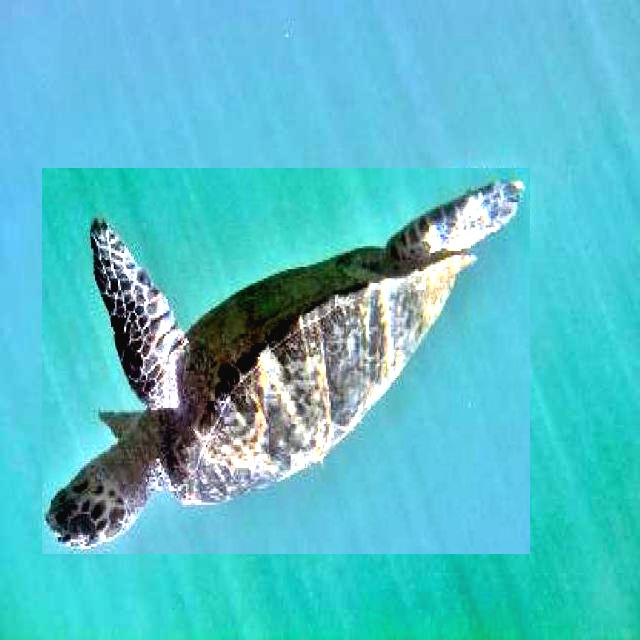Sea turtle: (42, 168, 530, 554)
